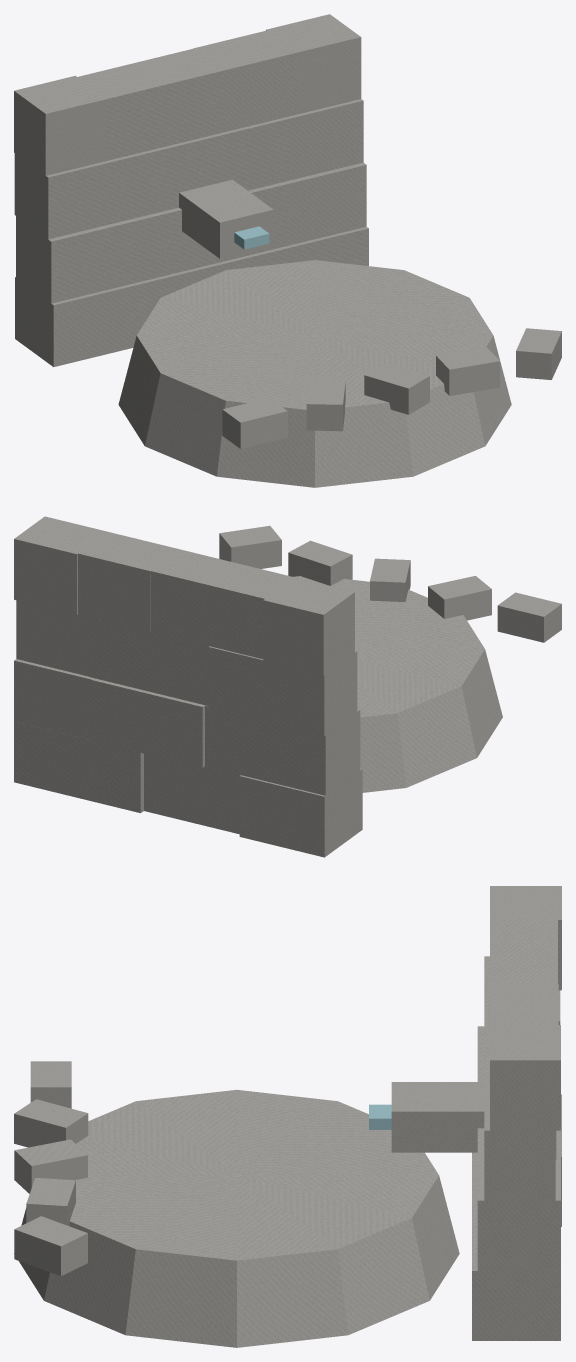
The model's file is andean-terraces-and-stone-village-spring-head-basin-fd14736e__38237.glb.
3 views of the same model, one above another, from view 1: azimuth 30°, elevation 25°; view 2: azimuth 150°, elevation 25°; view 3: azimuth 270°, elevation 25° (orthographic). The views are drawn at different scales.
Visible parts, largest first — view 1: spring-head-basin-stone, spring-head-basin-water; view 2: spring-head-basin-stone; view 3: spring-head-basin-stone, spring-head-basin-water.
Boxes of the visible parts, <box> form: spring-head-basin-stone: <box>14,14,561,487</box>; spring-head-basin-water: <box>234,226,269,249</box>; spring-head-basin-stone: <box>14,516,561,857</box>; spring-head-basin-stone: <box>14,886,561,1347</box>; spring-head-basin-water: <box>369,1104,391,1129</box>.
Bounding box in the file's own units: 2.16 × 1.5 × 2.66.
2 materials, 1 textured.
